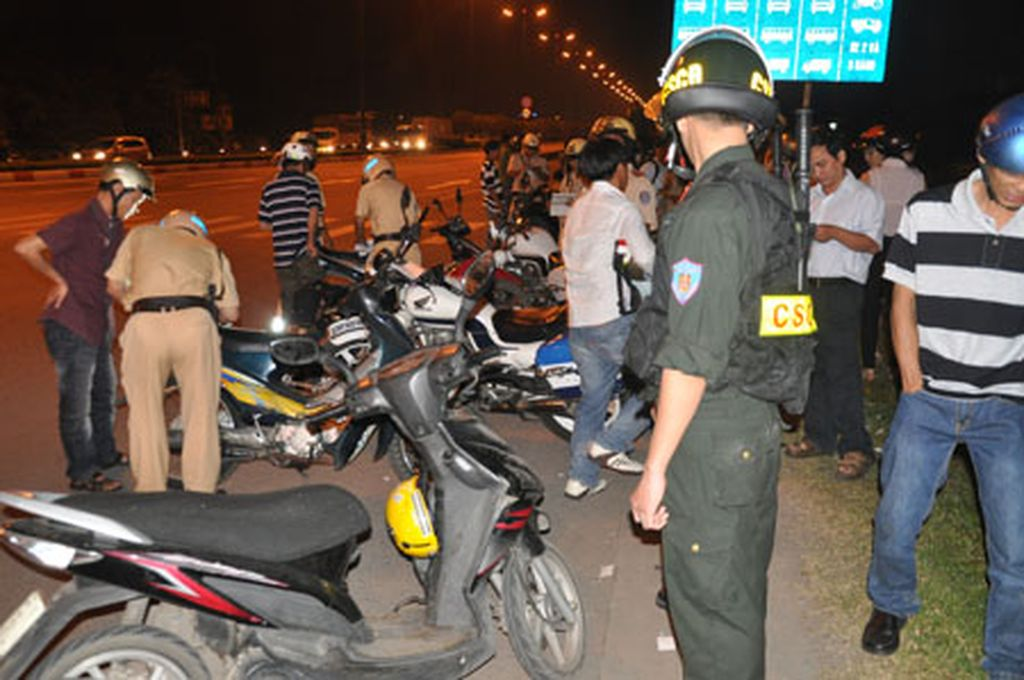police: (108, 206, 244, 499)
